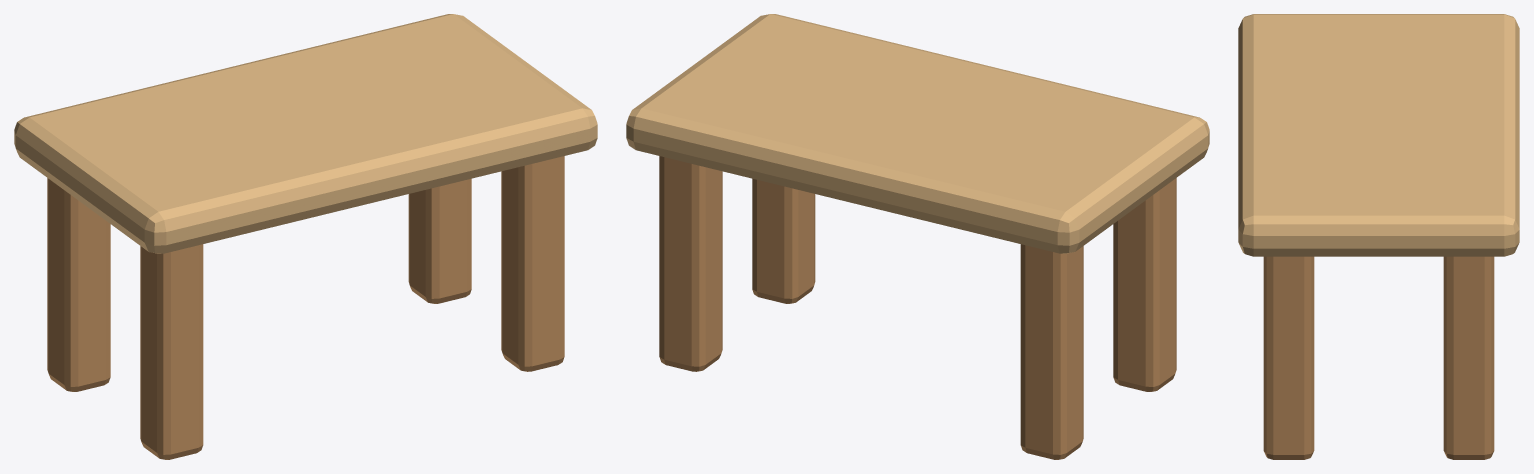
Rendered from Table.fbx.
3 renders of one model, left to right at view 1: azimuth 30°, elevation 25°; view 2: azimuth 150°, elevation 25°; view 3: azimuth 270°, elevation 25°, orthographic. The views are drawn at different scales.
Visible parts, largest first — view 1: Top, Leg_-0.72_-0.32, Leg_0.72_-0.32, Leg_-0.72_0.32, Leg_0.72_0.32; view 2: Top, Leg_-0.72_0.32, Leg_0.72_0.32, Leg_-0.72_-0.32, Leg_0.72_-0.32; view 3: Top, Leg_0.72_-0.32, Leg_0.72_0.32.
Boxes of the visible parts, x1=… form: Top: x1=14, y1=14, x2=597, y2=253; Leg_-0.72_-0.32: x1=140, y1=244, x2=203, y2=459; Leg_0.72_-0.32: x1=501, y1=156, x2=564, y2=371; Leg_-0.72_0.32: x1=47, y1=178, x2=110, y2=391; Leg_0.72_0.32: x1=408, y1=178, x2=471, y2=303; Top: x1=626, y1=14, x2=1209, y2=253; Leg_-0.72_0.32: x1=1020, y1=244, x2=1083, y2=459; Leg_0.72_0.32: x1=659, y1=156, x2=722, y2=371; Leg_-0.72_-0.32: x1=1113, y1=178, x2=1176, y2=391; Leg_0.72_-0.32: x1=752, y1=178, x2=815, y2=303; Top: x1=1238, y1=14, x2=1519, y2=256; Leg_0.72_-0.32: x1=1263, y1=256, x2=1314, y2=459; Leg_0.72_0.32: x1=1443, y1=256, x2=1494, y2=459.
Bounding box in the file's own units: 1.8 × 0.99 × 1.
